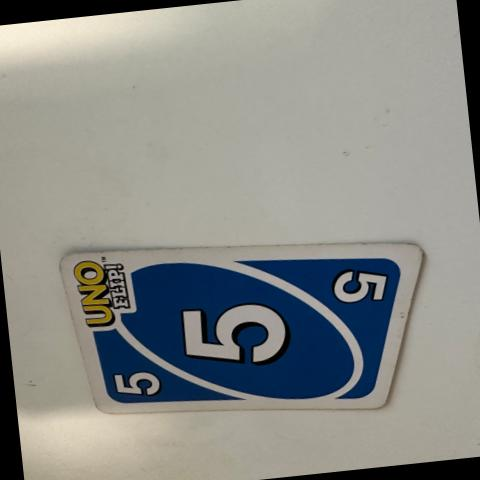lblue-5: (98, 350, 176, 408)
